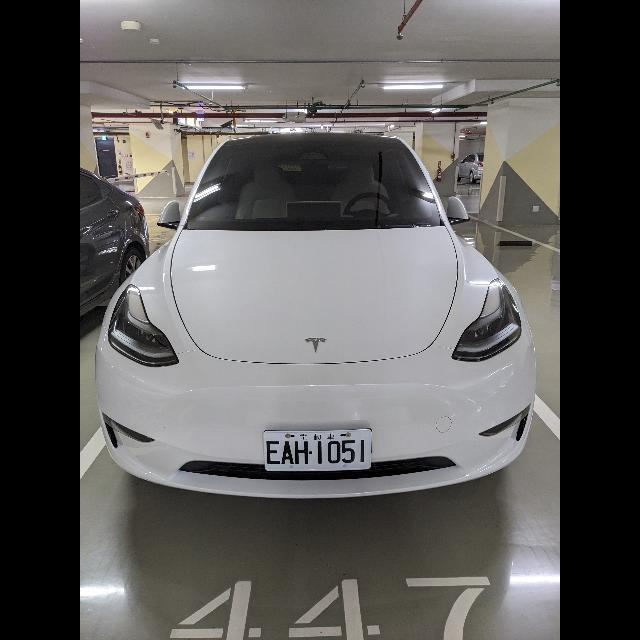plate: (263, 429, 372, 471)
